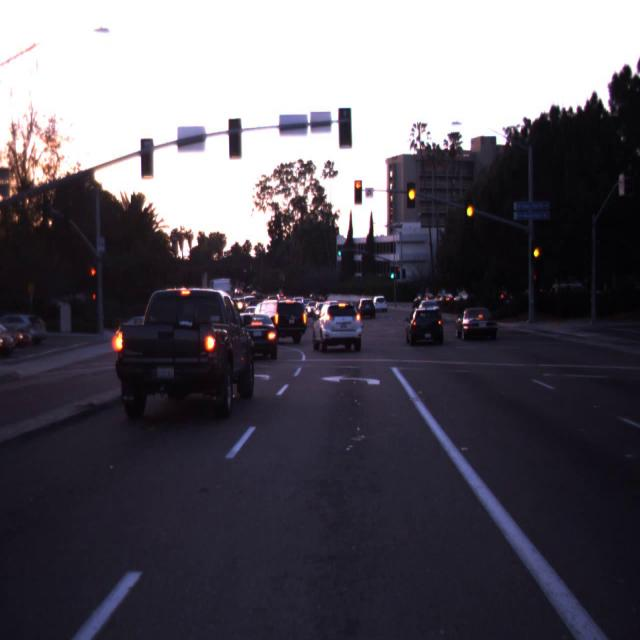go: (390, 272, 394, 278), (338, 252, 341, 255)
go traffic light: (387, 252, 397, 282), (337, 243, 342, 256)
stop left: (355, 181, 361, 187), (92, 269, 95, 275)
stop left traffic light: (349, 178, 367, 202), (89, 266, 98, 290)
warning: (409, 190, 415, 199), (468, 208, 472, 215), (534, 251, 538, 256)
warning traffic light: (404, 173, 420, 211), (463, 194, 477, 224), (530, 240, 542, 264)
